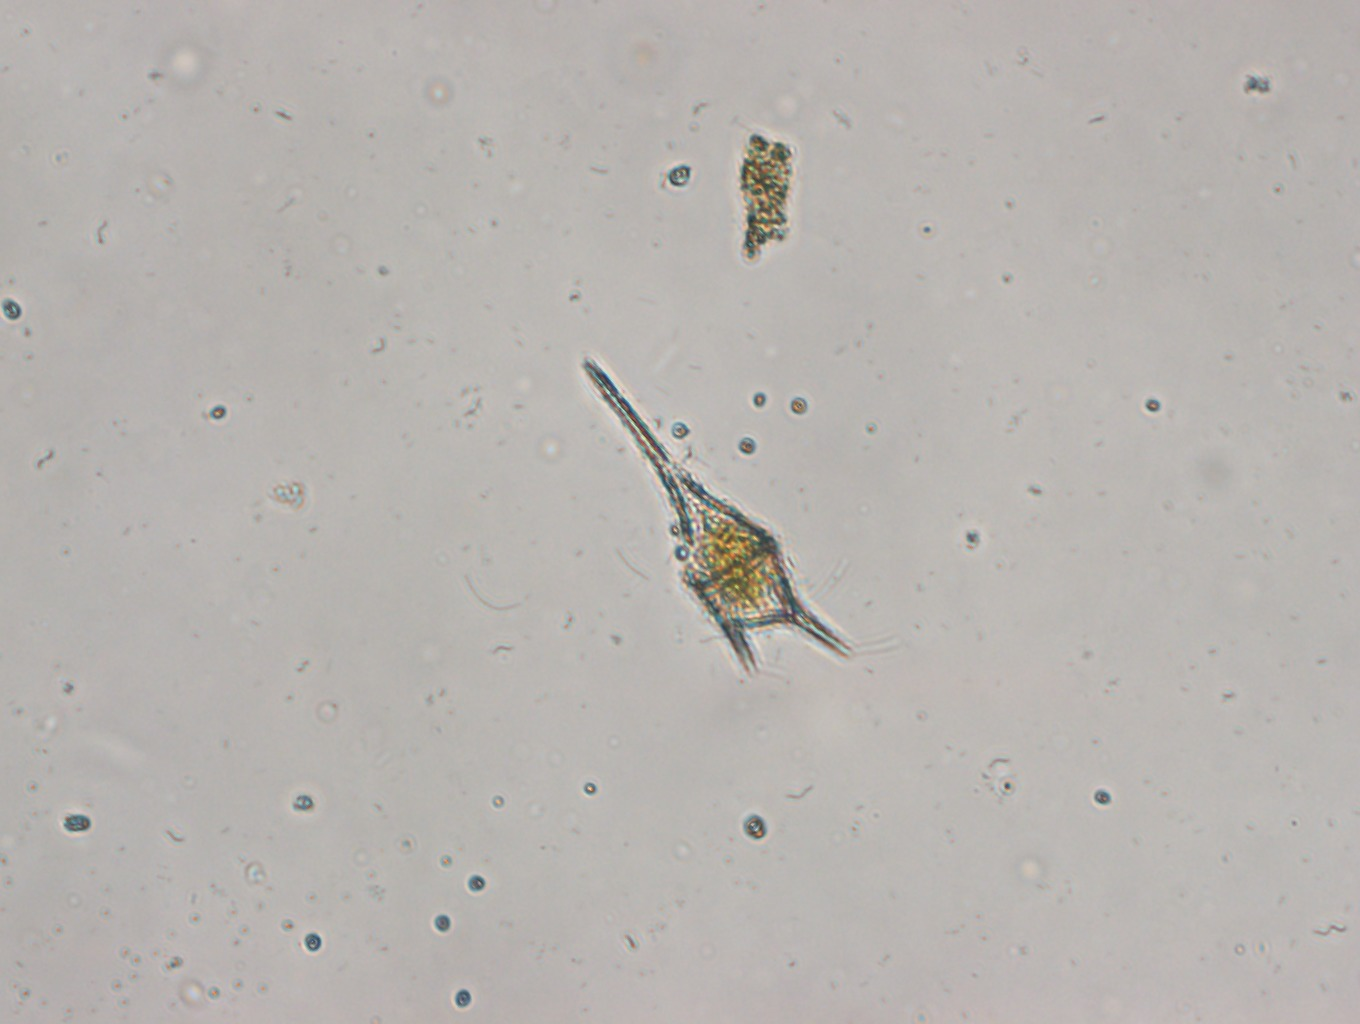ceratium furca: (576, 351, 851, 674)
